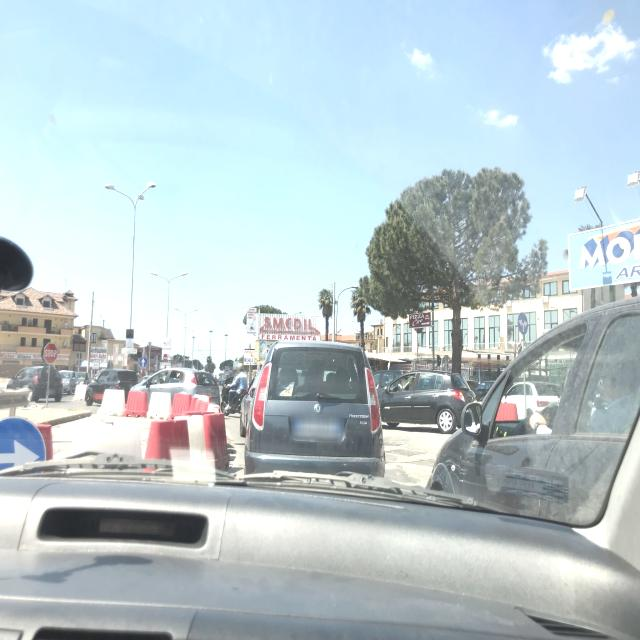car: (424, 287, 640, 513), (244, 339, 385, 479), (378, 370, 477, 434), (139, 367, 224, 414), (4, 365, 63, 405), (84, 368, 141, 409), (238, 368, 261, 438), (221, 372, 250, 413), (57, 370, 77, 395), (474, 380, 497, 400)
